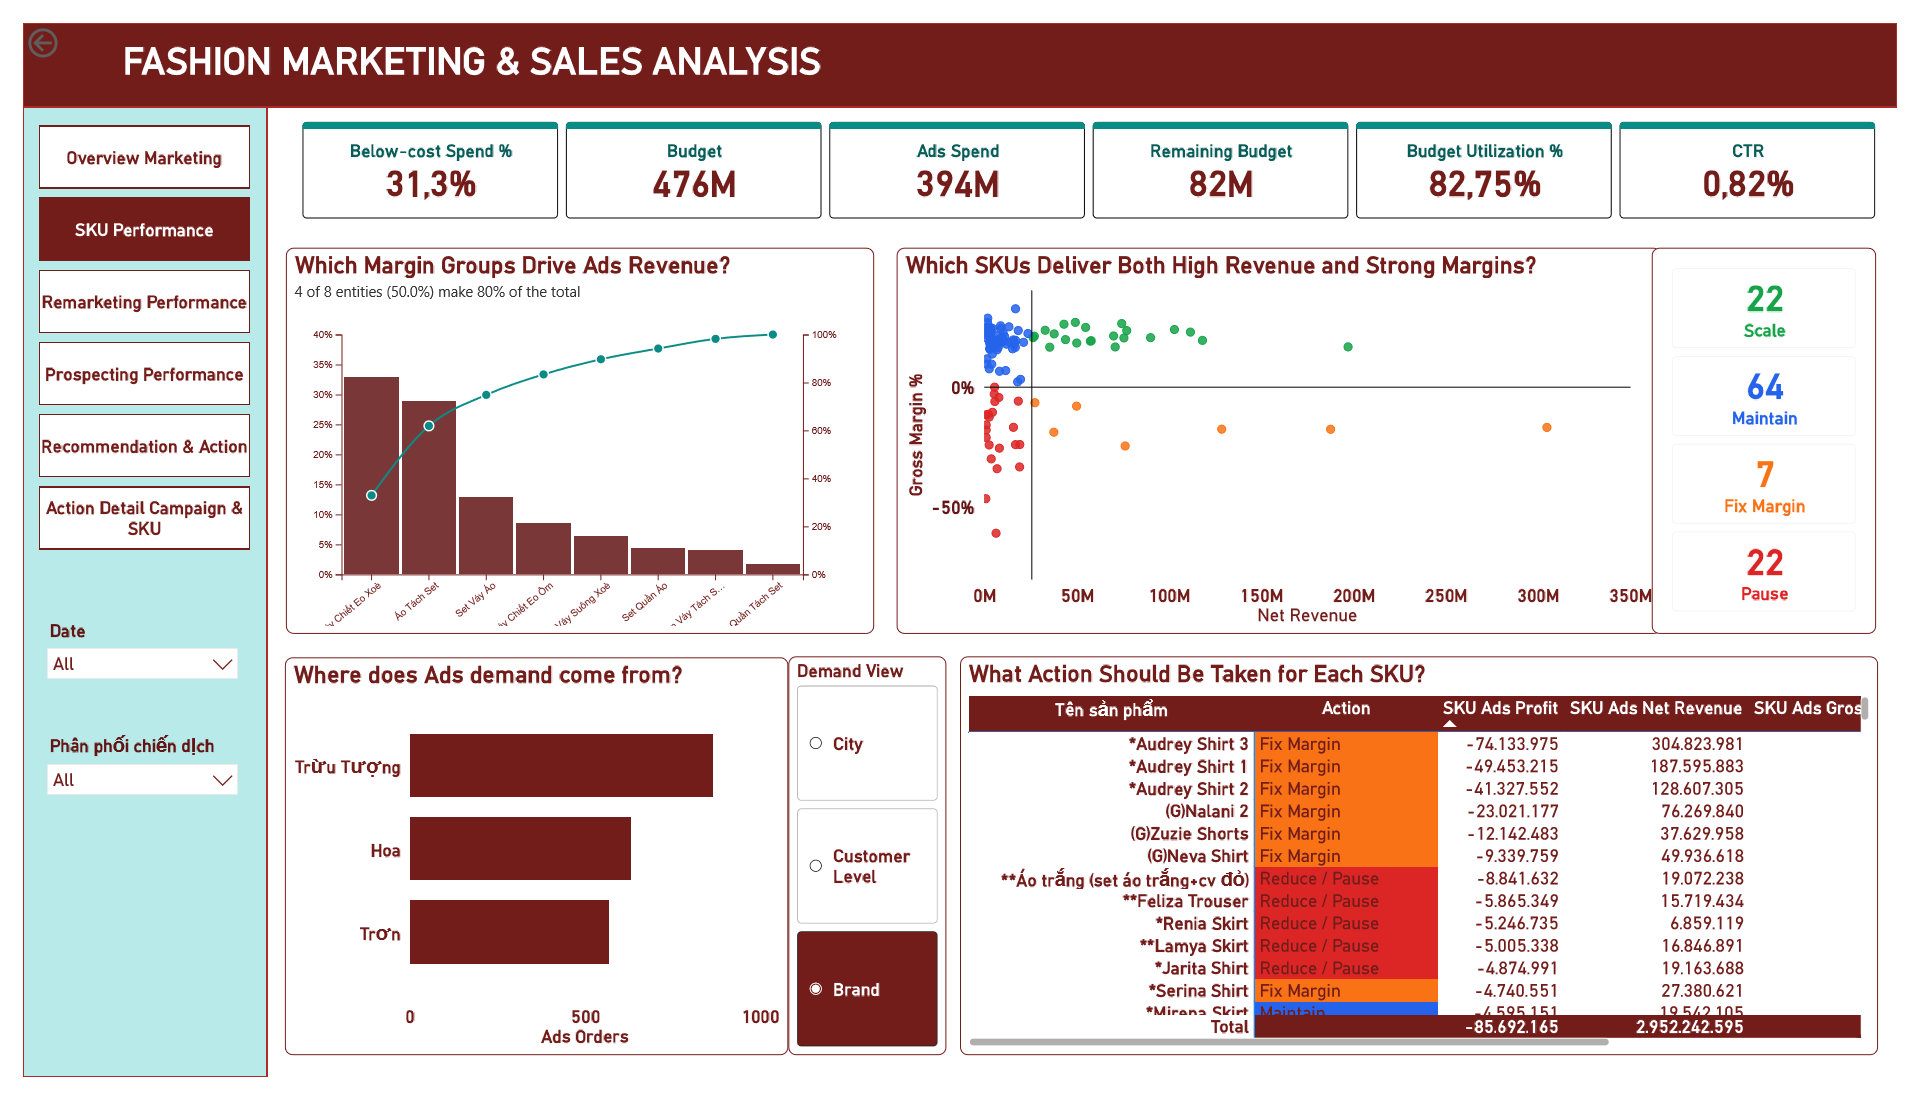

The page's visual inventory and layout, read from the dashboard file:
{"tool":"powerbi","page":{"name":"SKU Performance","canvas":[1920,1080],"ordinal":1},"visuals":[{"type":"shape","box":[0,86,250,994],"z":0},{"type":"cardVisual","fields":{"Data":["_Measure.Below-cost Spend %","_Measure.Total Budget","_Measure.Marketing Spend","_Measure._Remaining Budget","_Measure.Budget Utilization %","_Measure._CTR"]},"box":[268.6,84.3,1651.4,132.9],"z":1000},{"type":"shape","box":[0,0,1920,85.7],"z":2000},{"type":"actionButton","box":[0,0,100,40],"z":3000},{"type":"pivotTable","title":"What Action Should Be Taken for Each SKU?","fields":{"Rows":["dim_danh sach san pham.Tên sản phẩm"],"Values":["_Measure.Product Action","_Measure._Ads Profit","_Measure.Revenue","_Measure.Profit Margin %","_Measure.Ads Orders"]},"box":[960,649.5,940.6,408.8],"z":4000},{"type":"ParetoChartPro1A2B3C4D5E6F7A8B9C0D","title":"Which Margin Groups Drive Ads Revenue?","fields":{"category":["dim_danh sach san pham.Danh mục"],"measure":["_Measure.Ads Revenue"]},"box":[269.1,230.3,602.9,395.9],"z":5000},{"type":"scatterChart","title":"Which SKUs Deliver Both High Revenue and Strong Margins?","fields":{"Category":["dim_danh sach san pham.Tên sản phẩm"],"X":["_Measure.Revenue"],"Y":["_Measure.Profit Margin %"]},"box":[895.3,230.3,784,395.9],"z":6000},{"type":"advancedSlicerVisual","fields":{"Values":["Parameter_Page_3.Parameter"]},"box":[784,649.5,161.7,408.8],"z":7000},{"type":"clusteredBarChart","title":"Where does Ads demand come from?","fields":{"Category":["dim_danh sach san pham.Thương hiệu"],"Y":["_Measure.Ads Orders"]},"box":[268,650,516,408],"z":8000},{"type":"textbox","box":[97.1,11.4,798.6,62.9],"z":10000},{"type":"slicer","fields":{"Values":["dim_date.Date"]},"box":[14.2,606.8,216.1,102.2],"z":11000},{"type":"slicer","fields":{"Values":["fact_mkt_camp_by_sku_cost.Phân phối chiến dịch"]},"box":[14.2,723.2,216.1,91.9],"z":12000},{"type":"cardVisual","fields":{"Data":["_Measure.SKU Count - Scale","_Measure.SKU Count - Maintain","_Measure.SKU Count - Fix Margin","_Measure.SKU Count - Reduce"]},"box":[1669,230.3,230.3,395.9],"z":12500},{"type":"pageNavigator","box":[15.5,104.8,216.1,434.7],"z":13000}]}

Visuals, with their boxes in screenshot pixels (x1, y1, x2, y2), scaled from the page's 1920x1080 canvas onto the 1920x1100 screenshot:
shape: <bbox>0, 88, 250, 1099</bbox>
cardVisual - _Measure.Below-cost Spend % x _Measure.Total Budget: <bbox>269, 86, 1919, 221</bbox>
shape: <bbox>0, 0, 1919, 87</bbox>
actionButton: <bbox>0, 0, 100, 41</bbox>
"What Action Should Be Taken for Each SKU?" pivotTable: <bbox>960, 662, 1901, 1078</bbox>
"Which Margin Groups Drive Ads Revenue?" ParetoChartPro1A2B3C4D5E6F7A8B9C0D: <bbox>269, 235, 872, 638</bbox>
"Which SKUs Deliver Both High Revenue and Strong Margins?" scatterChart: <bbox>895, 235, 1679, 638</bbox>
advancedSlicerVisual - Parameter_Page_3.Parameter: <bbox>784, 662, 946, 1078</bbox>
"Where does Ads demand come from?" clusteredBarChart: <bbox>268, 662, 784, 1078</bbox>
textbox: <bbox>97, 12, 896, 76</bbox>
slicer - dim_date.Date: <bbox>14, 618, 230, 722</bbox>
slicer - fact_mkt_camp_by_sku_cost.Phân phối chiến dịch: <bbox>14, 737, 230, 830</bbox>
cardVisual - _Measure.SKU Count - Scale x _Measure.SKU Count - Maintain: <bbox>1669, 235, 1899, 638</bbox>
pageNavigator: <bbox>16, 107, 232, 549</bbox>
